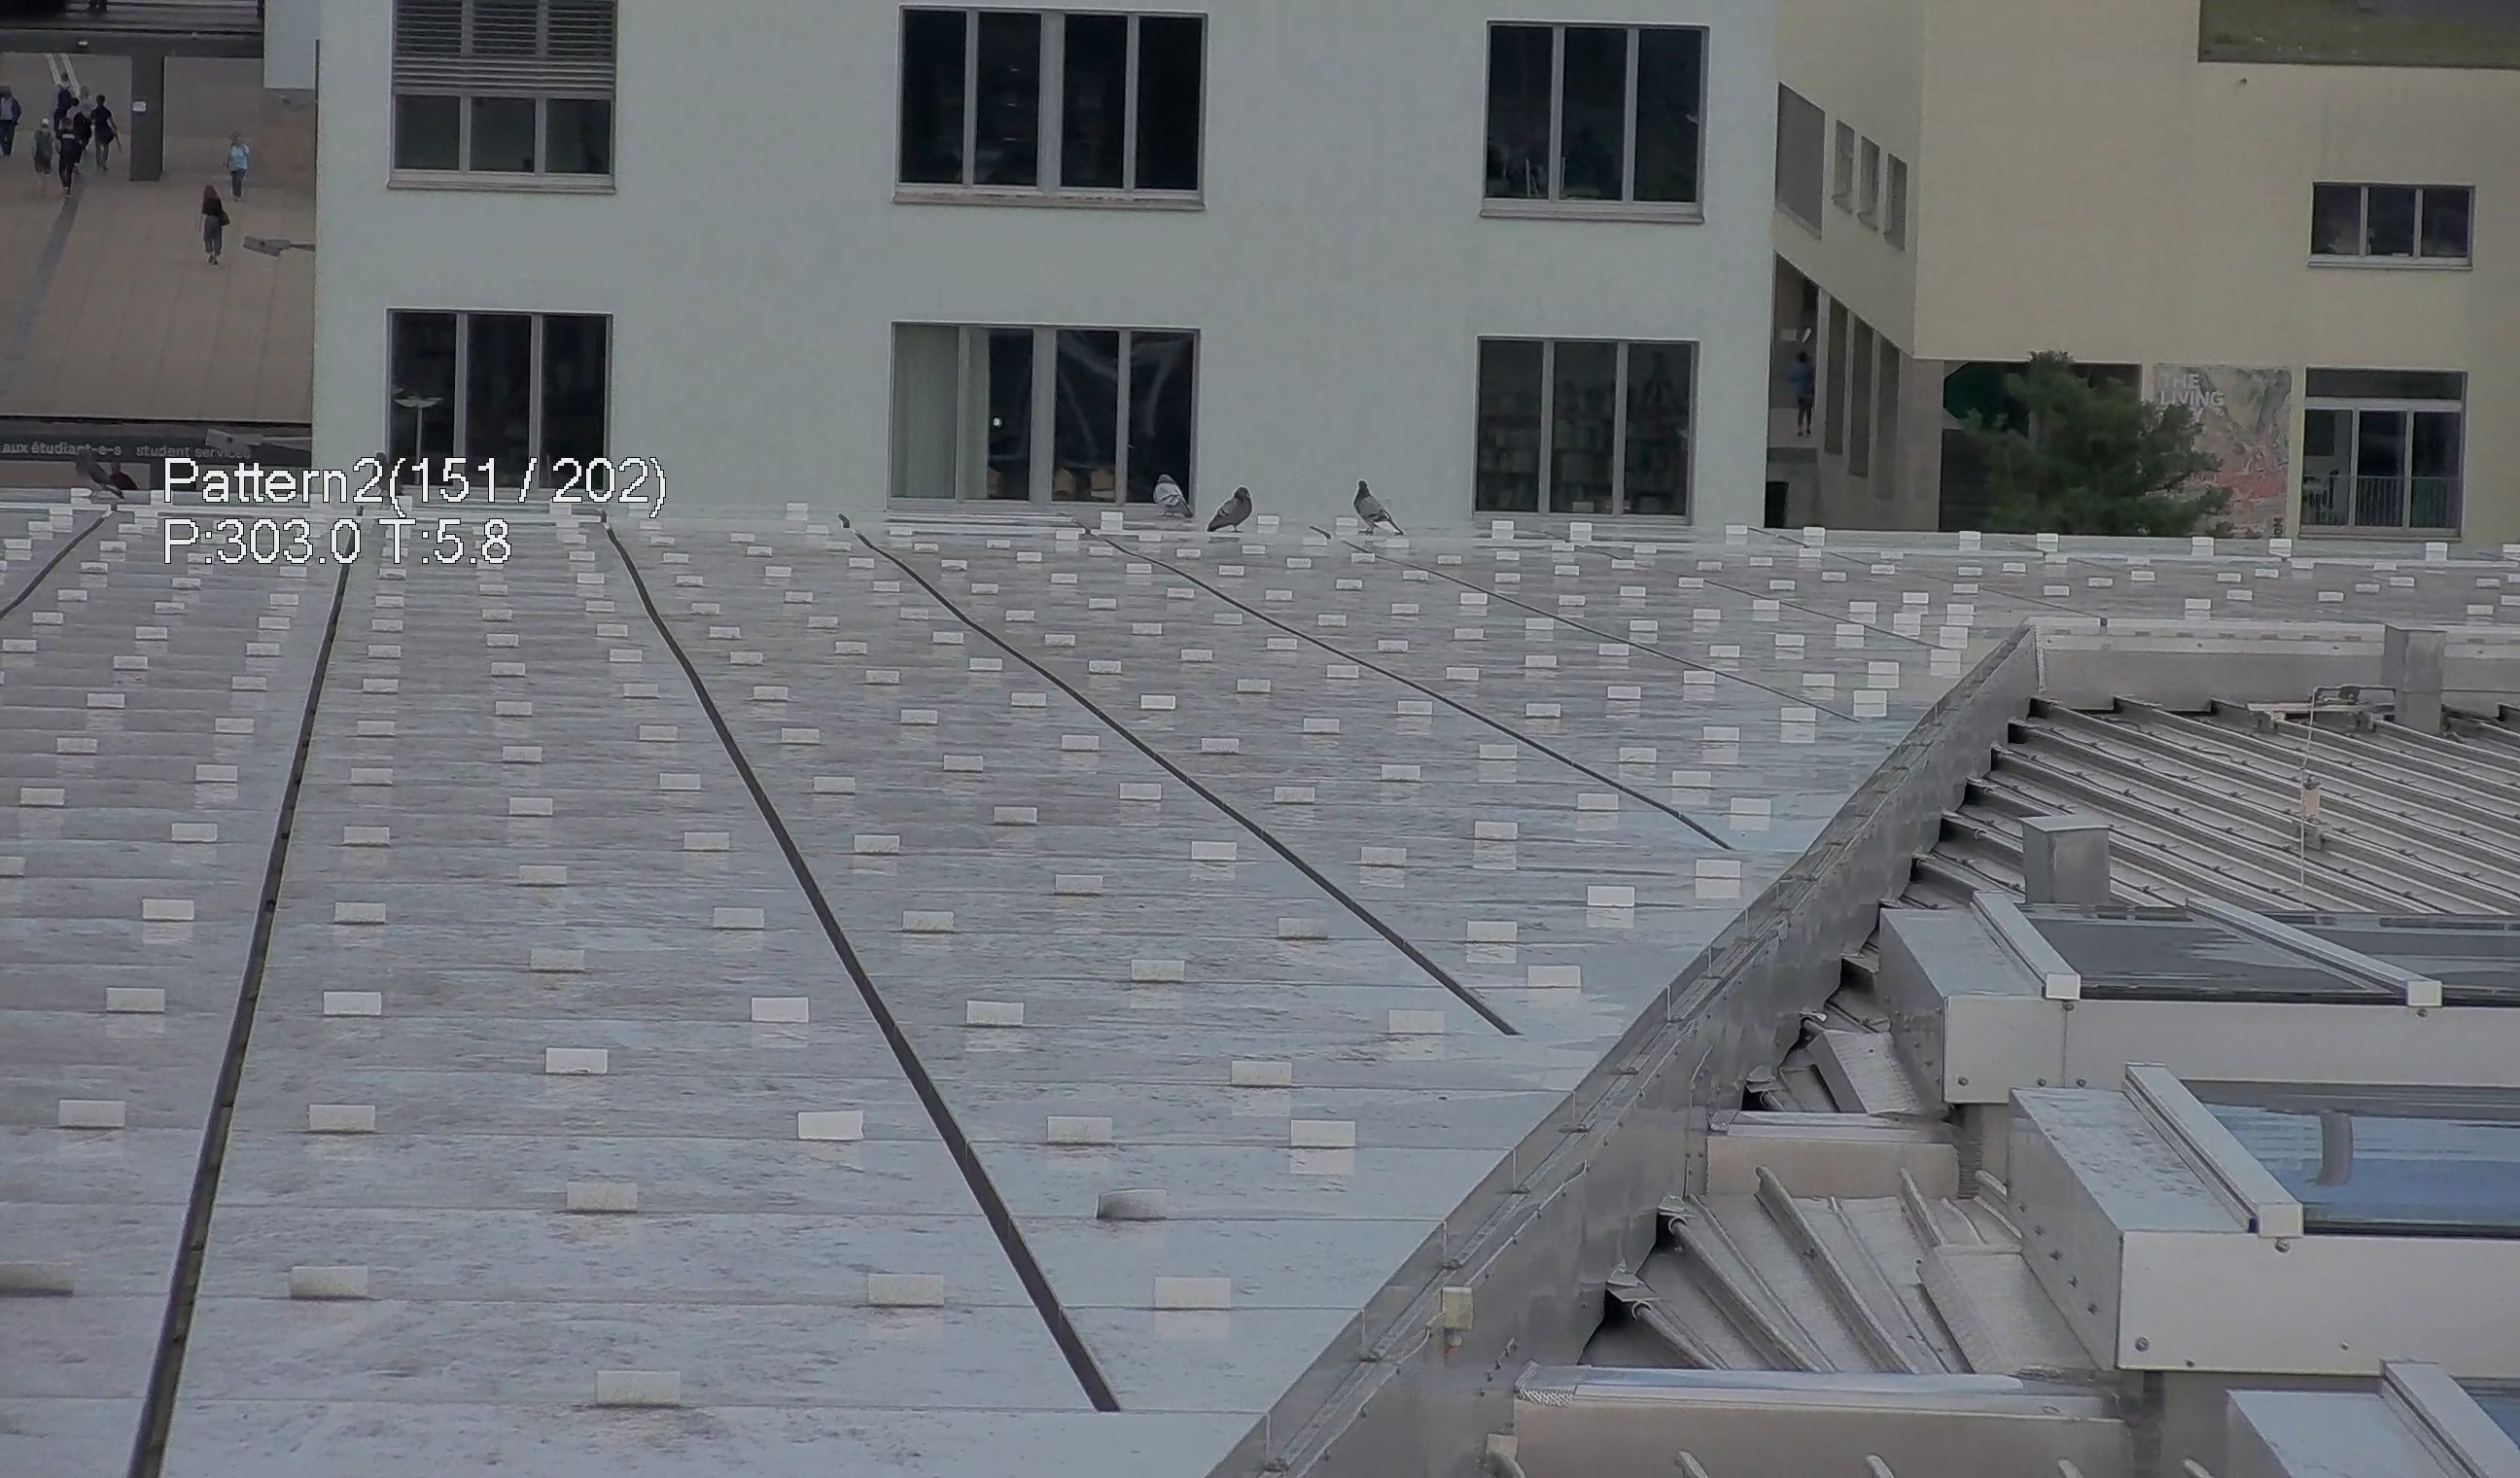Pigeon: (1196, 475, 1268, 538), (1354, 473, 1402, 535), (1148, 468, 1198, 524)
